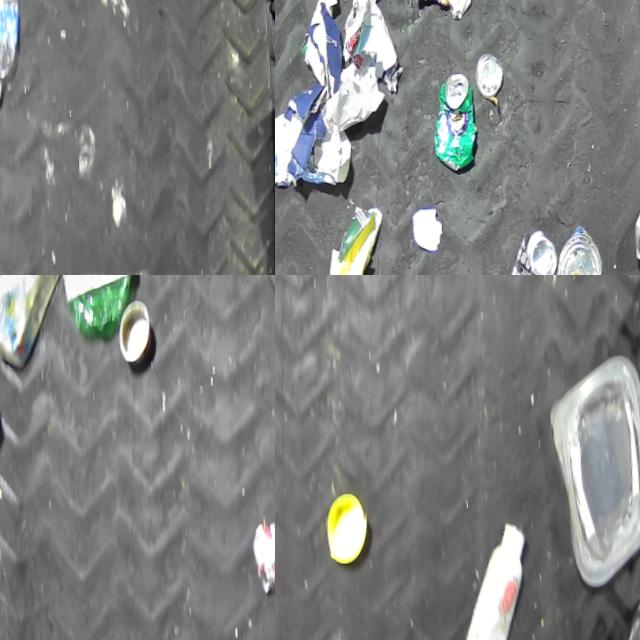can: (428, 69, 483, 172), (503, 228, 568, 275), (553, 223, 611, 275), (116, 297, 157, 368), (252, 517, 275, 598), (474, 51, 506, 98)
non_white_jug: (0, 275, 74, 371)
plastic_bottle: (0, 0, 35, 112)
